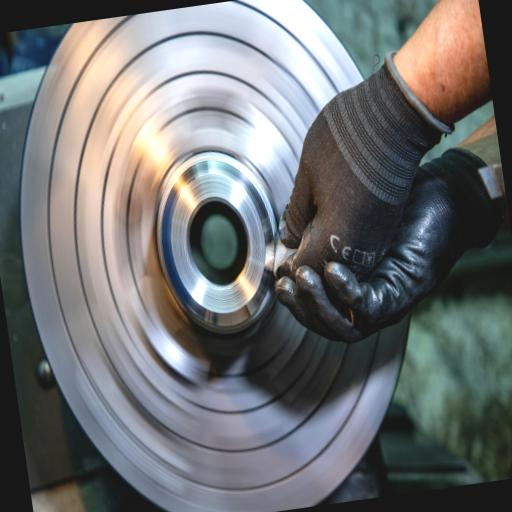Gloves: (208, 16, 505, 366)
